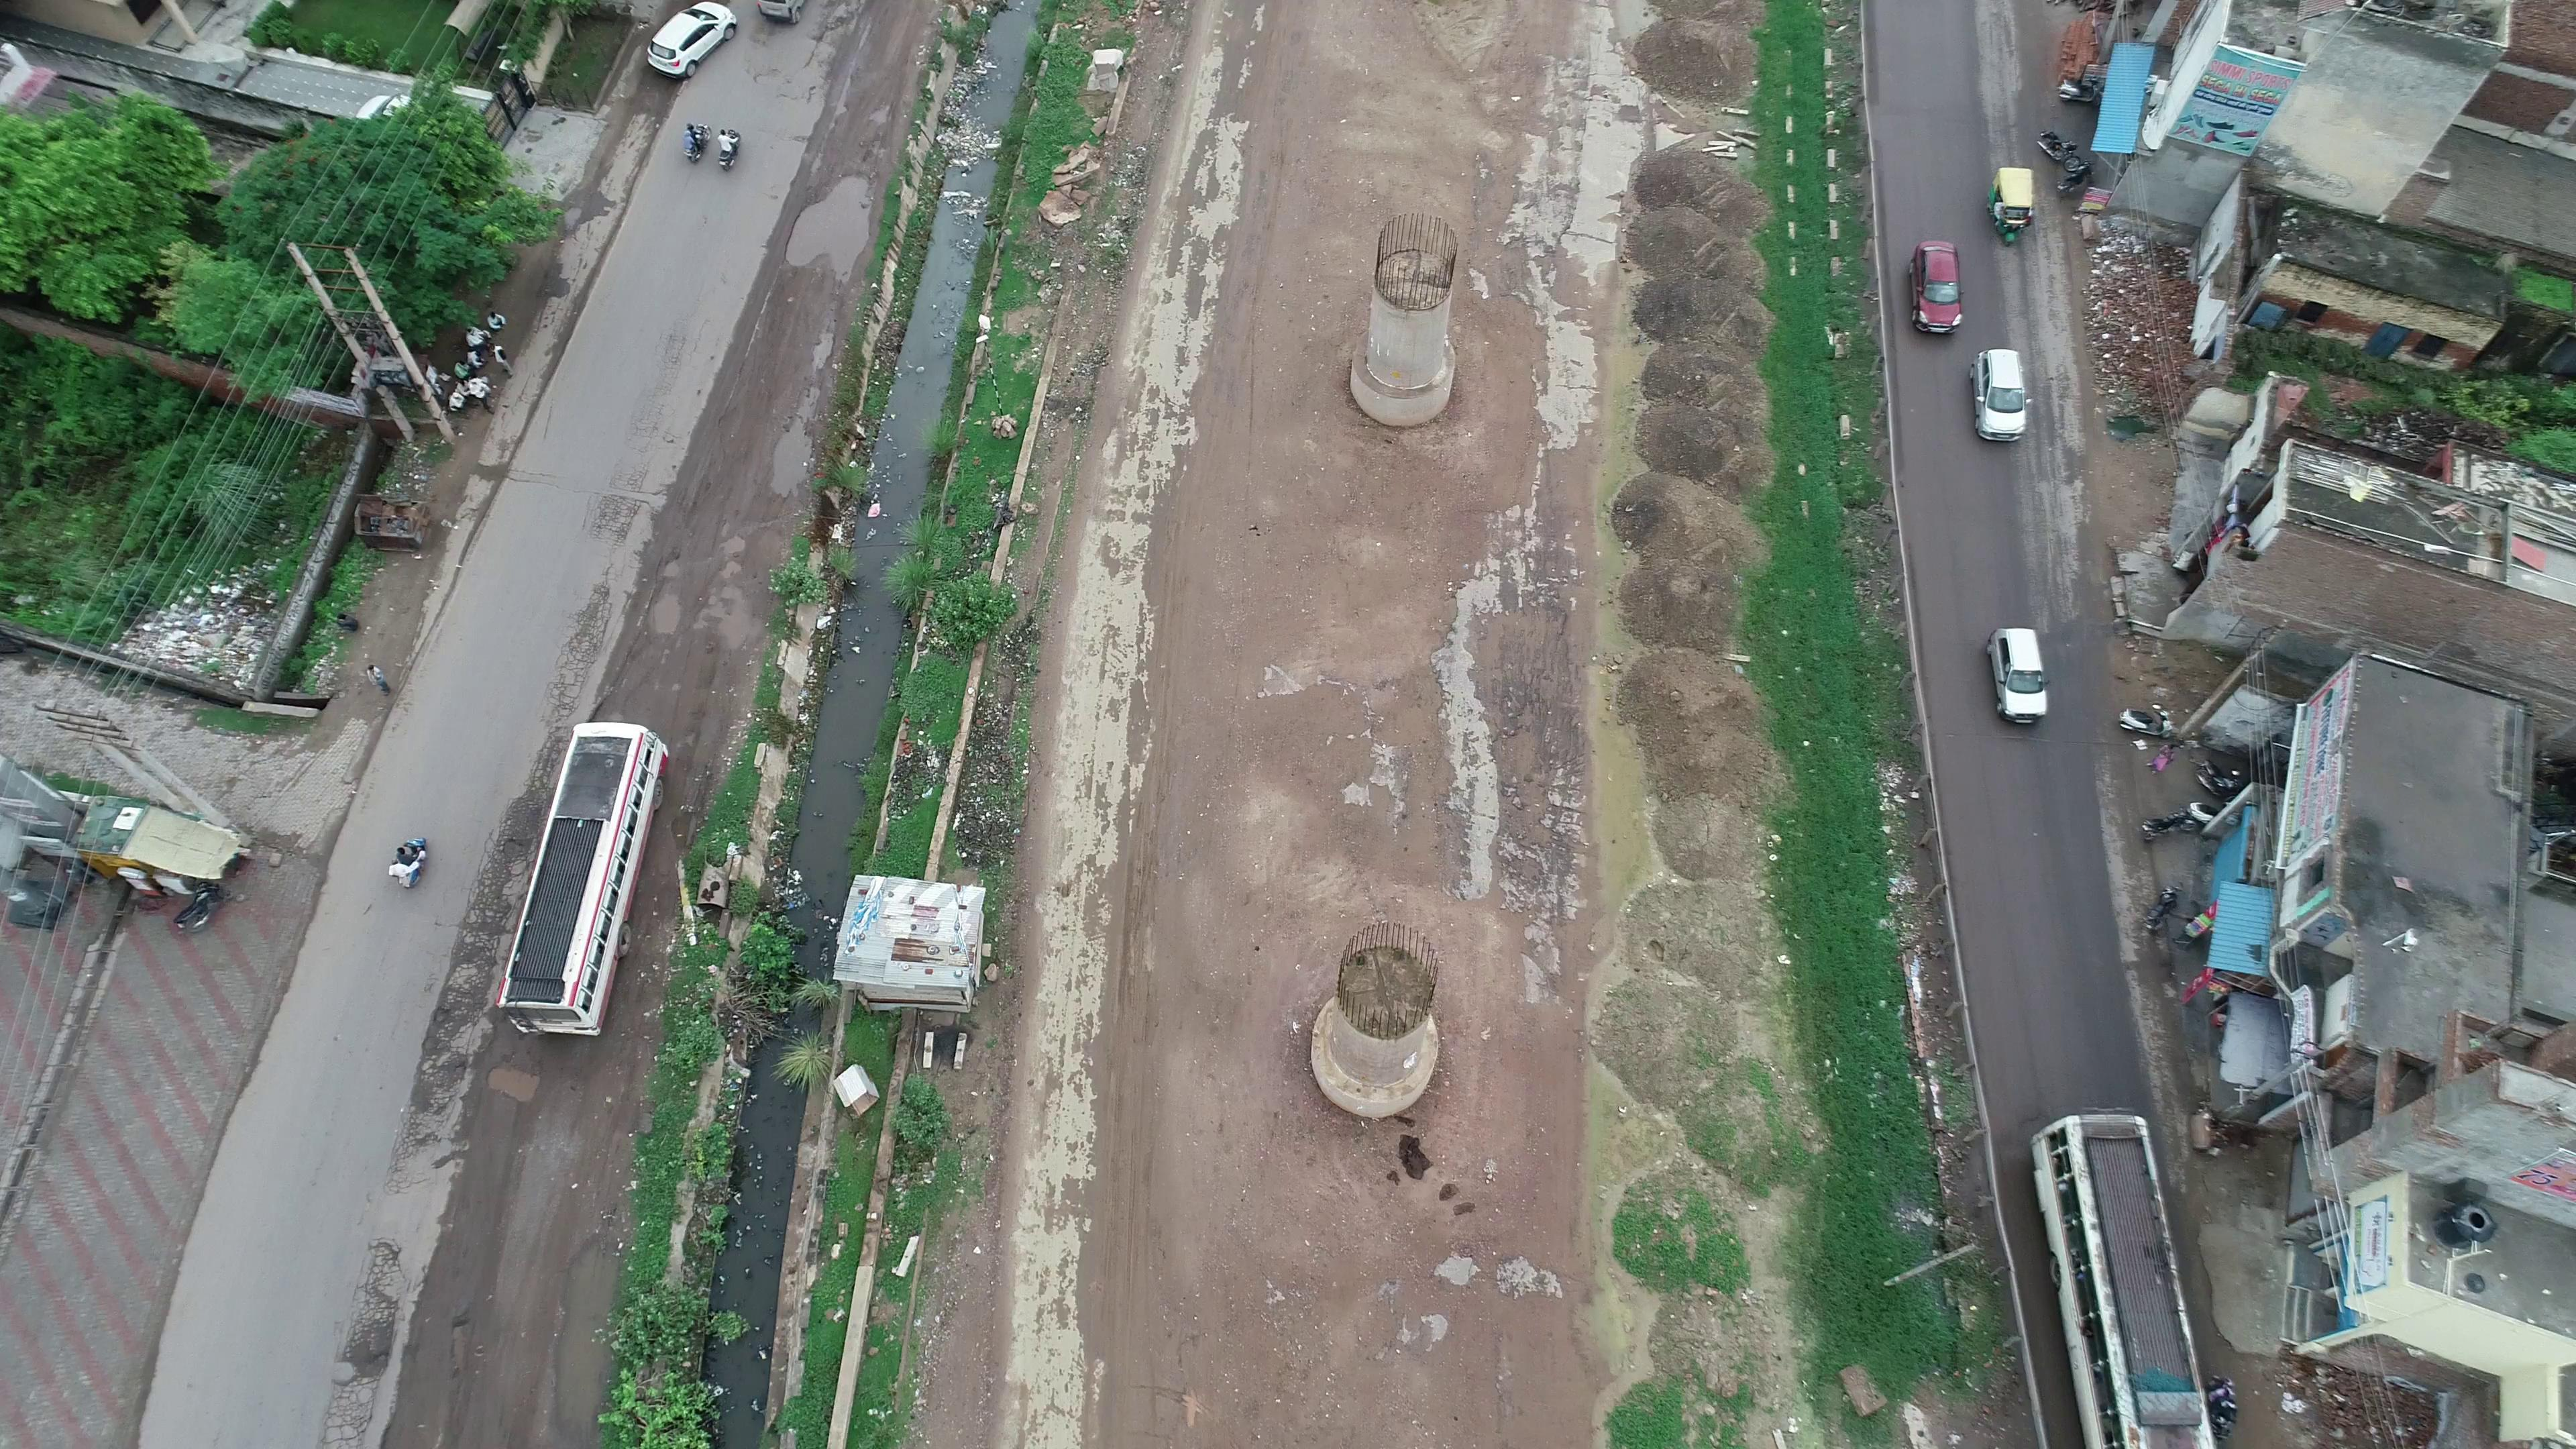Waterlogging: (771, 170, 890, 283)
